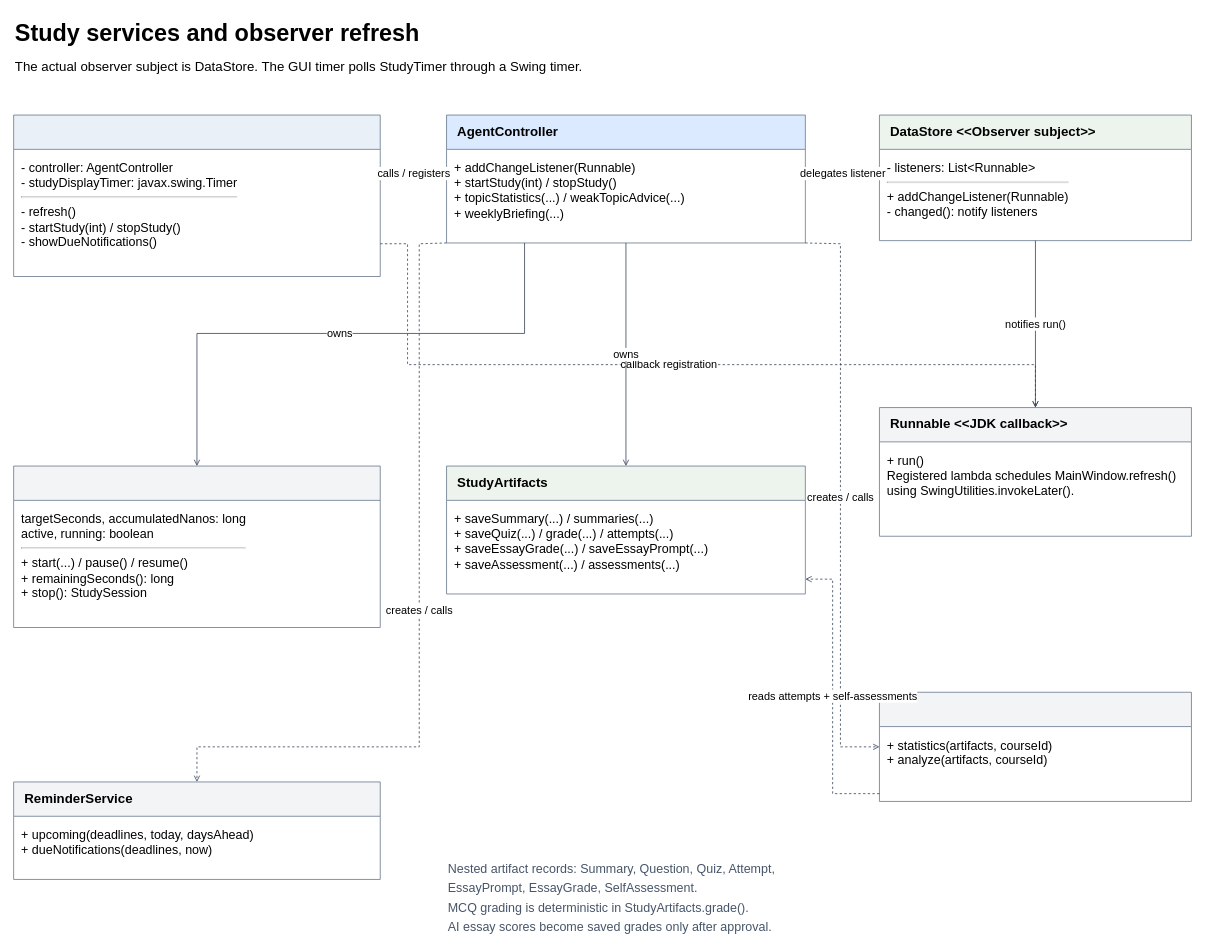
Some shapes in this 1209 by 948 pixel diagram are drawn without their labels. The shapes that lost their labels are listed below. From the top down, each one's box as (x1, y1, x2, y2) in pixels, then its label:
(13, 114, 380, 277): MainWindow <<JFrame>>
(13, 465, 380, 628): StudyTimer
(879, 691, 1191, 801): WeakTopicAnalyzer
